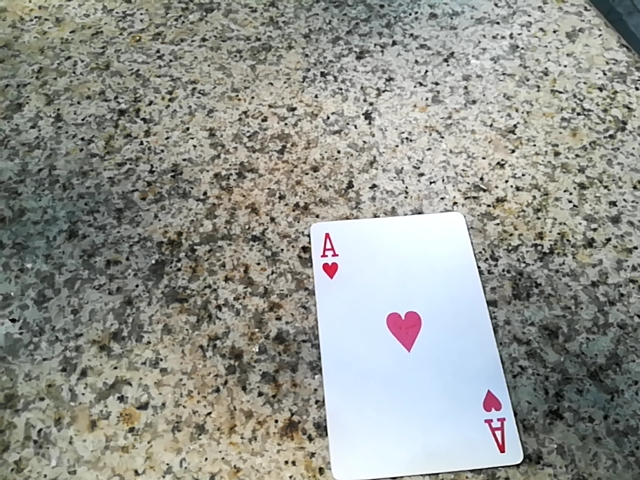hx a: (315, 217, 520, 479)
